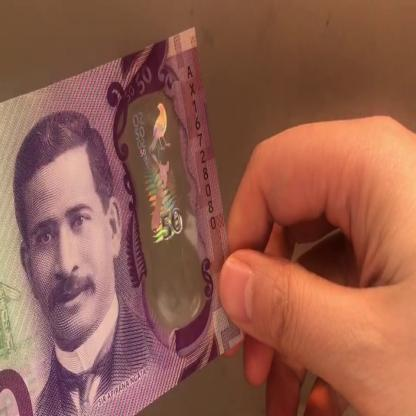50F: (128, 100, 198, 317)
